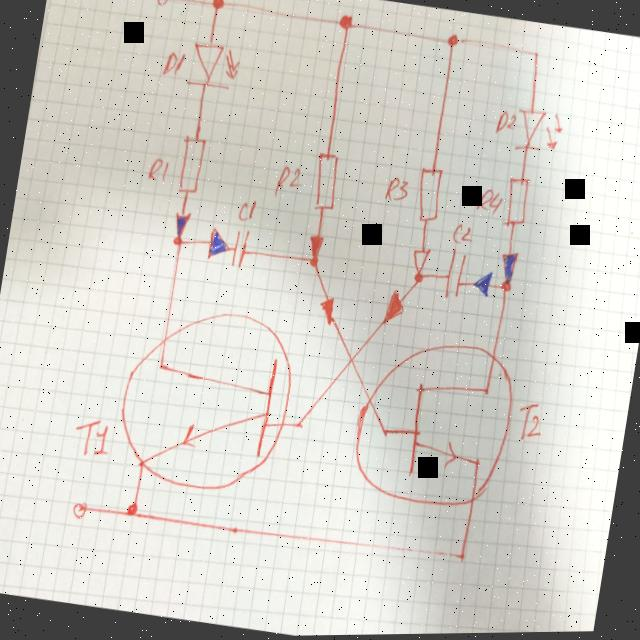capacitor: (442, 248, 469, 302), (228, 227, 254, 272)
crossover: (344, 352, 358, 370)
diode: (184, 38, 242, 95), (511, 103, 566, 159)
junction: (124, 497, 142, 520), (336, 12, 354, 33), (497, 279, 514, 297), (306, 253, 321, 269), (409, 272, 424, 288), (446, 33, 460, 49), (209, 0, 226, 13), (171, 234, 184, 249), (293, 418, 306, 432), (456, 551, 466, 564), (532, 50, 540, 61)
resistor: (173, 132, 208, 197), (308, 149, 343, 214), (412, 166, 446, 225), (502, 175, 532, 231)
terminal: (70, 498, 90, 522), (155, 0, 172, 8)
text: (68, 412, 114, 461), (512, 399, 547, 445), (272, 163, 306, 203), (474, 186, 504, 218), (384, 175, 412, 206), (160, 48, 187, 79), (146, 155, 172, 184), (494, 109, 518, 137), (450, 221, 475, 246), (235, 197, 257, 224)
transistor: (109, 294, 304, 504), (344, 327, 522, 519)
